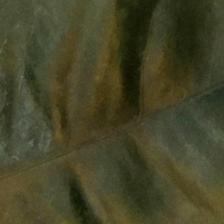healthy: (4, 10, 224, 203)
